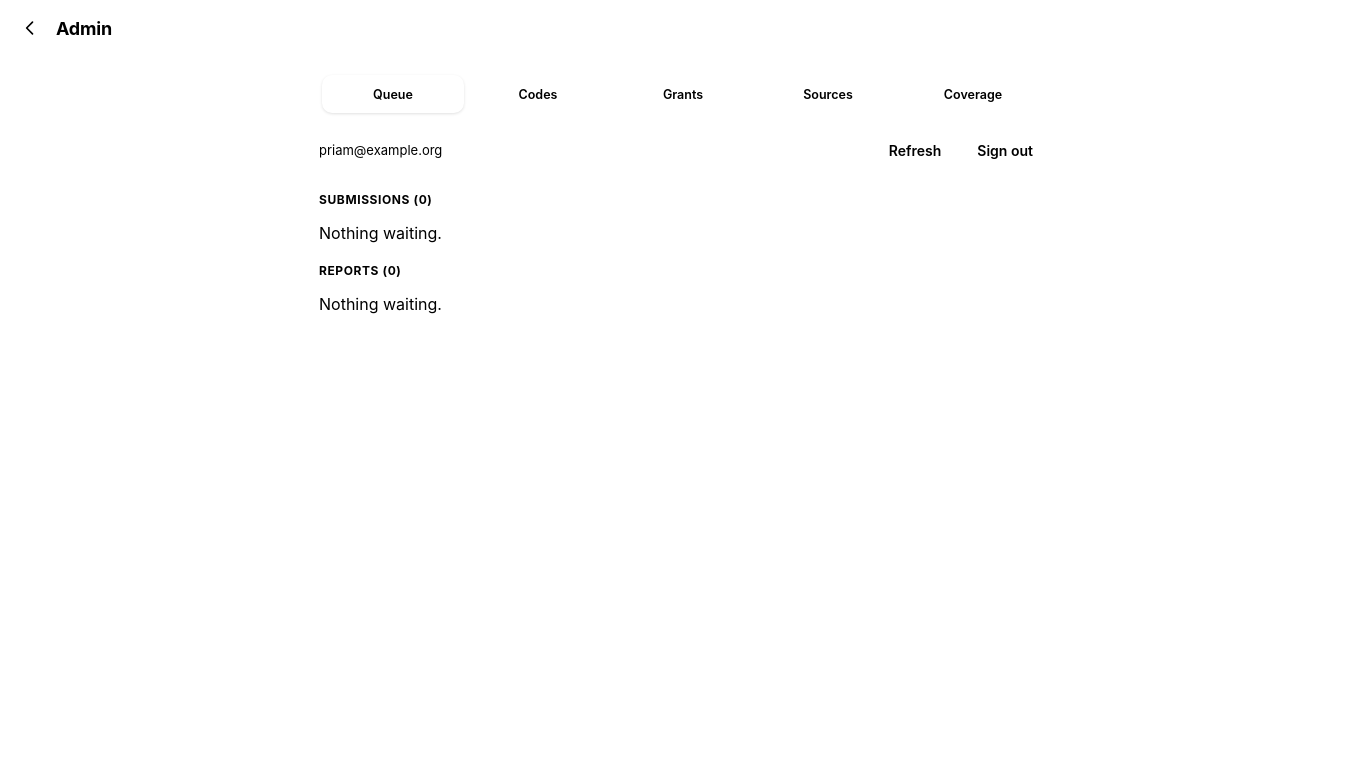
Scenario: code requests (M8 slice F) › lists requests with language, age, account and when a code was made
Click the tab "Codes". click: click(538, 94)
box: [467, 75, 609, 113]
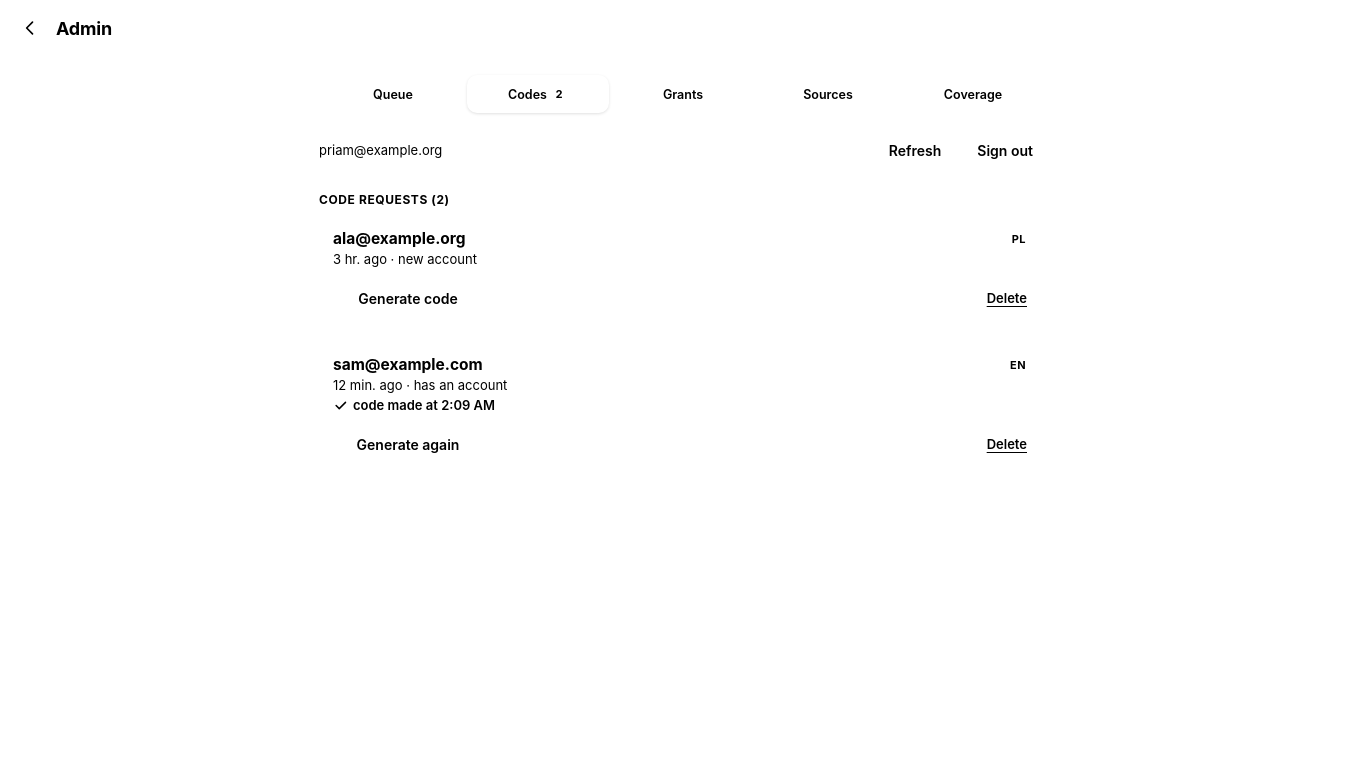
Now the element that starts with "ala@example.org" is shown, box [333, 229, 466, 248]
Now the element that starts with "ala@example.org" shows "new account", box [398, 251, 477, 267]
Now the button "Generate code" is shown, box [333, 277, 483, 319]
